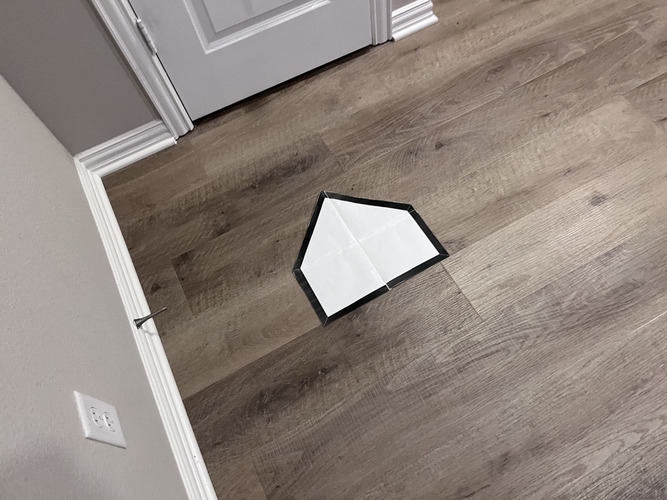homeplate: (291, 190, 450, 325)
